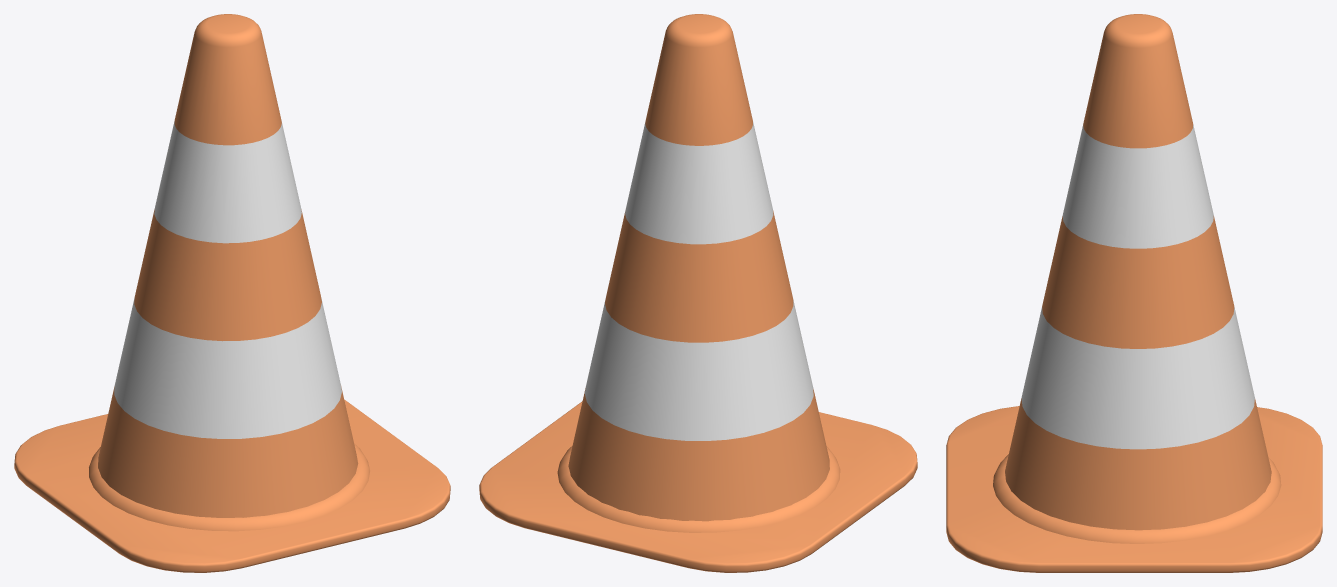
File: TrafficCone.fbx
The picture shows the model from 3 angles, left to right: view 1: azimuth 30°, elevation 25°; view 2: azimuth 150°, elevation 25°; view 3: azimuth 270°, elevation 25°; orthographic projection. The views are drawn at different scales.
Visible parts, largest first — view 1: TrafficCone; view 2: TrafficCone; view 3: TrafficCone.
Part boxes in pixels (box(x1,y1,x2,y2)): TrafficCone: box(14, 14, 450, 572); TrafficCone: box(479, 14, 917, 572); TrafficCone: box(946, 14, 1322, 572).
Size of the model in its own units: 118 by 161 by 117.
